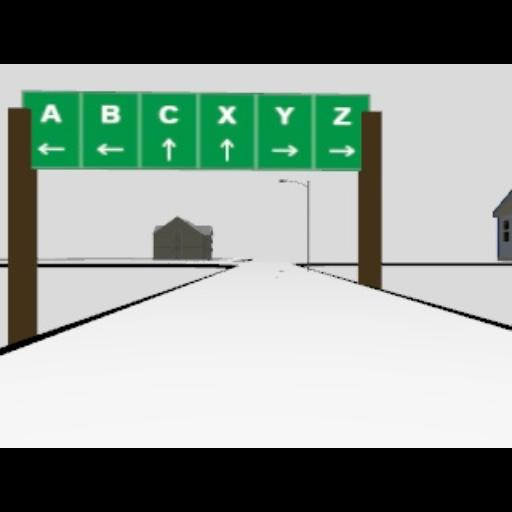A: (38, 102, 62, 124)
B: (100, 104, 120, 124)
C: (158, 104, 178, 124)
Left: (95, 142, 125, 156), (36, 142, 66, 156)
Right: (270, 144, 300, 156), (328, 144, 356, 156)
Straight: (162, 138, 176, 160), (219, 138, 233, 160)
X: (216, 104, 236, 124)
Y: (274, 106, 294, 124)
Z: (332, 106, 352, 124)
